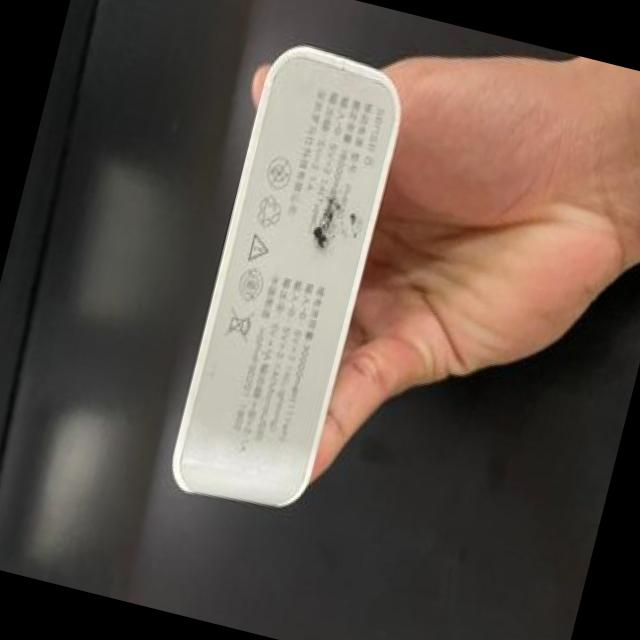portable-charger: (150, 27, 420, 526)
